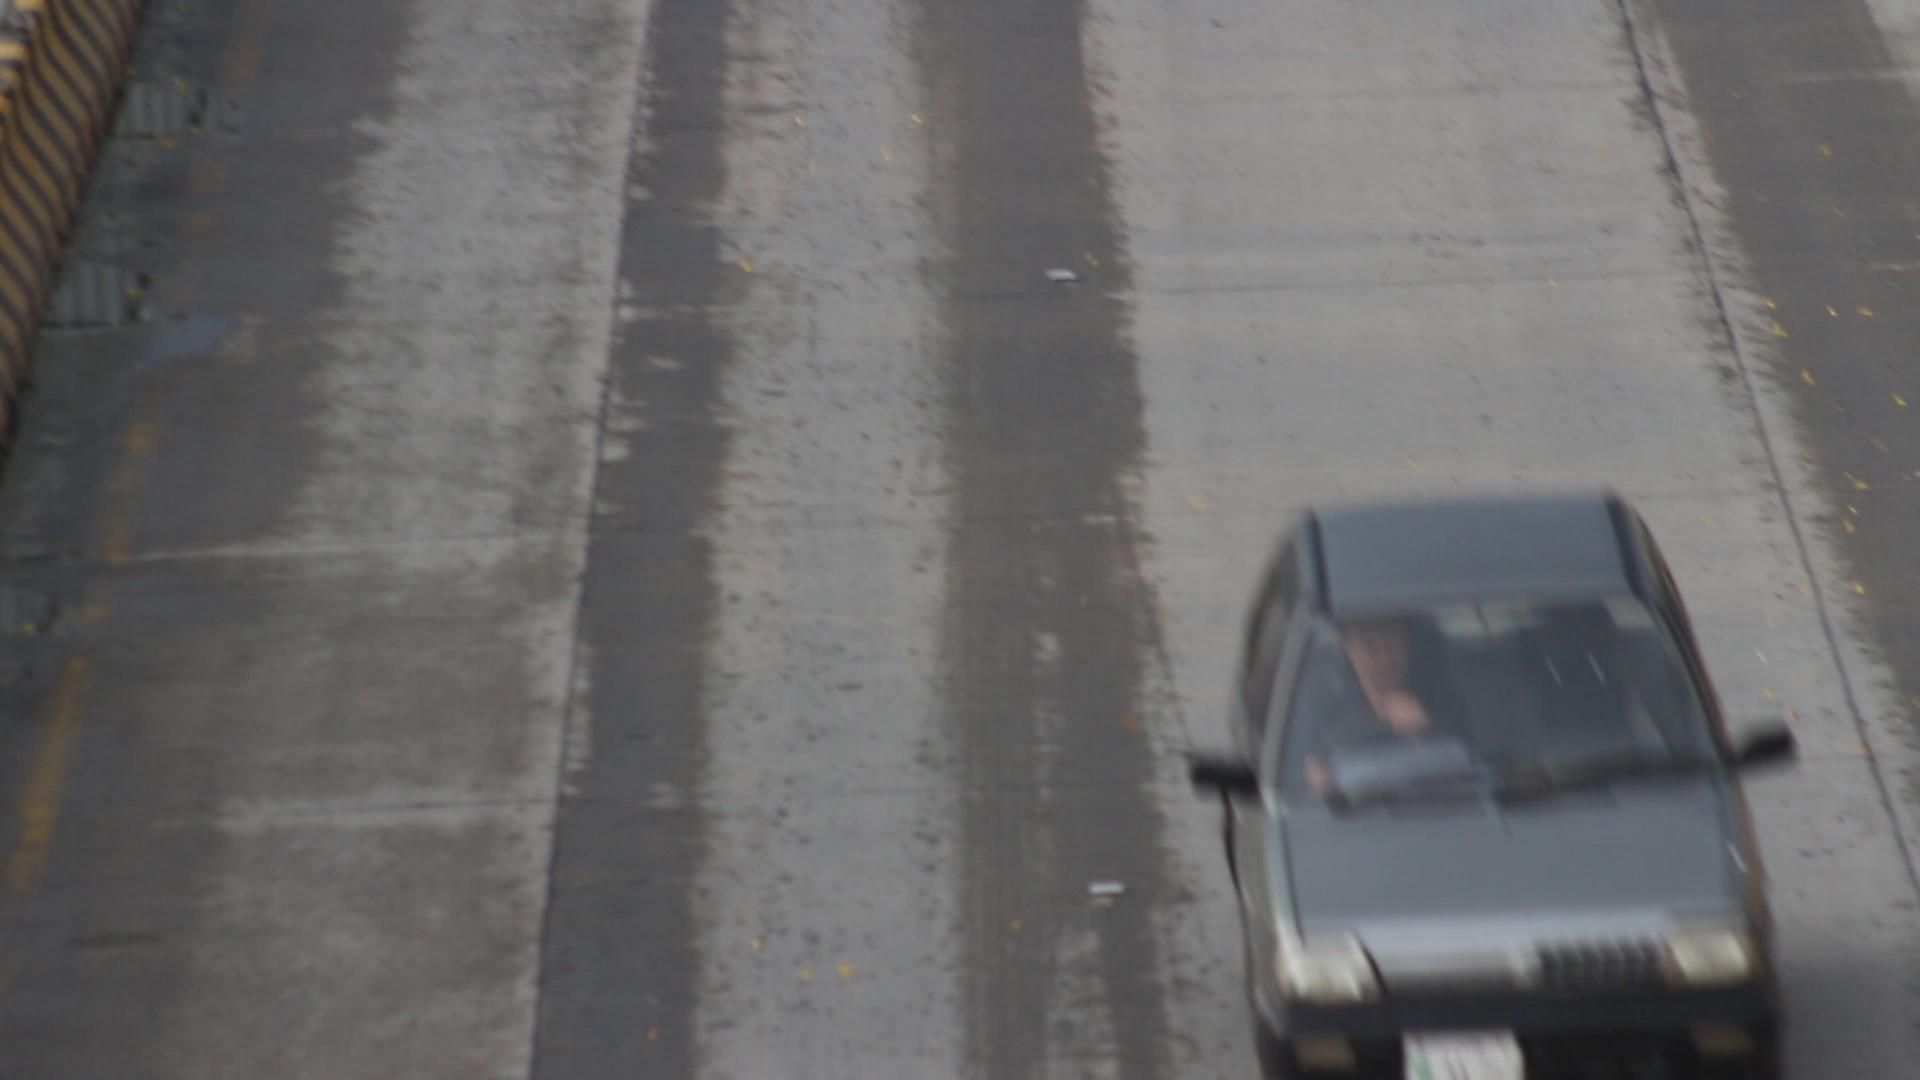windshield: (1257, 570, 1750, 814)
